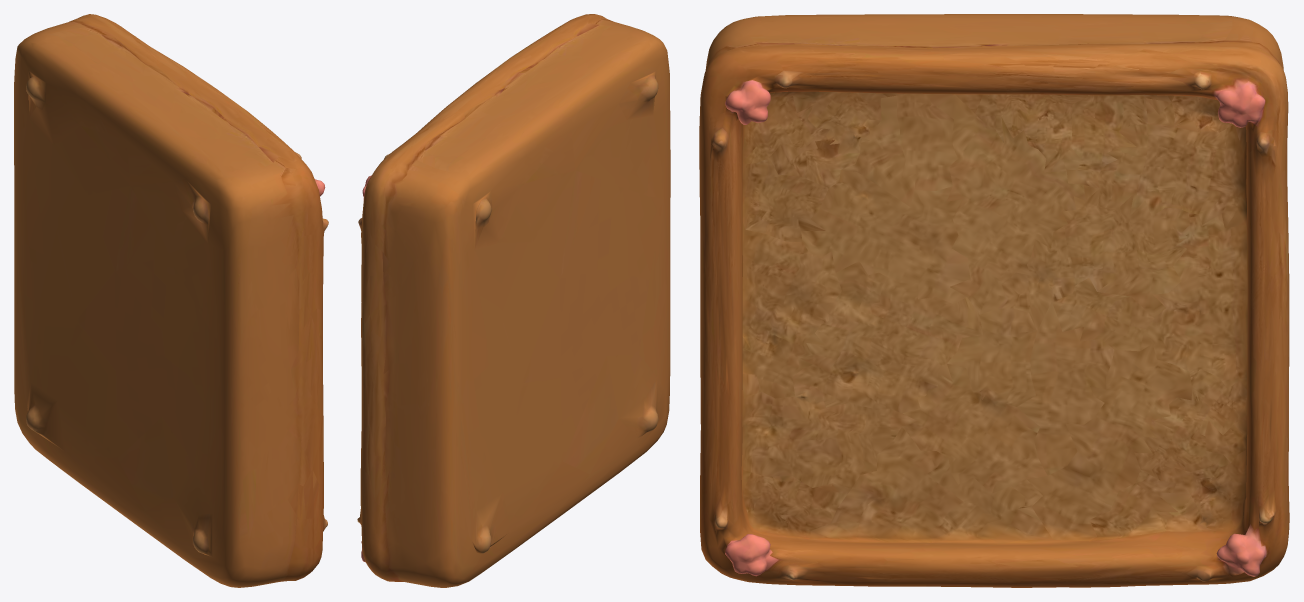
Rendered from decor-cork-board.glb.
3 views of the same model, side by side, from view 1: azimuth 30°, elevation 25°; view 2: azimuth 150°, elevation 25°; view 3: azimuth 270°, elevation 25° (orthographic). The views are drawn at different scales.
Visible parts, largest first — view 1: tripo_node_3fcb0721-5202-41e5-ab54-a284a2a698cb; view 2: tripo_node_3fcb0721-5202-41e5-ab54-a284a2a698cb; view 3: tripo_node_3fcb0721-5202-41e5-ab54-a284a2a698cb.
Part boxes in pixels (bbox=[...]): tripo_node_3fcb0721-5202-41e5-ab54-a284a2a698cb: bbox=[14, 14, 328, 587]; tripo_node_3fcb0721-5202-41e5-ab54-a284a2a698cb: bbox=[357, 14, 670, 587]; tripo_node_3fcb0721-5202-41e5-ab54-a284a2a698cb: bbox=[699, 14, 1289, 587].
Size of the model in its own units: 0.273 by 0.9768 by 0.9766.
1 material, 1 textured.
